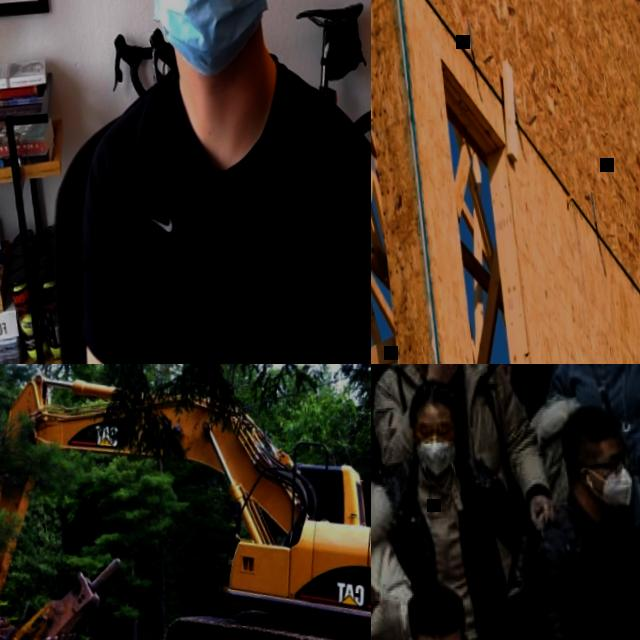Mask: (141, 0, 278, 84), (595, 467, 634, 516), (413, 437, 457, 480)
NO-Hardhat: (404, 582, 467, 640), (557, 402, 623, 451), (407, 375, 460, 420)
NO-Safety Vest: (114, 62, 371, 364), (543, 513, 640, 640)
Person: (24, 0, 371, 364), (375, 369, 541, 640), (371, 364, 543, 590), (510, 391, 640, 640), (528, 364, 640, 534), (481, 364, 640, 413), (400, 578, 525, 640)
vehicle: (0, 364, 371, 640), (0, 546, 263, 640)
